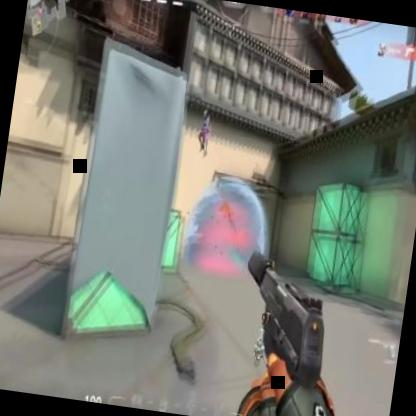enemy: (195, 108, 214, 158)
enemy_head: (202, 108, 206, 117)
